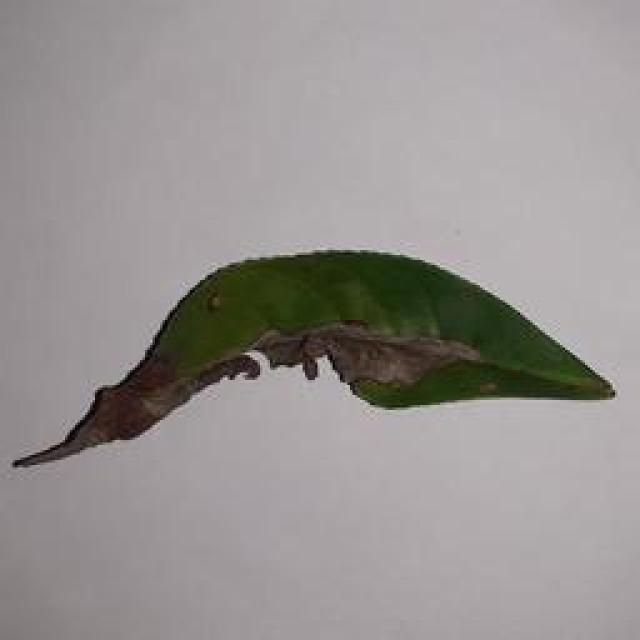Brown Blight: (4, 229, 622, 491)
